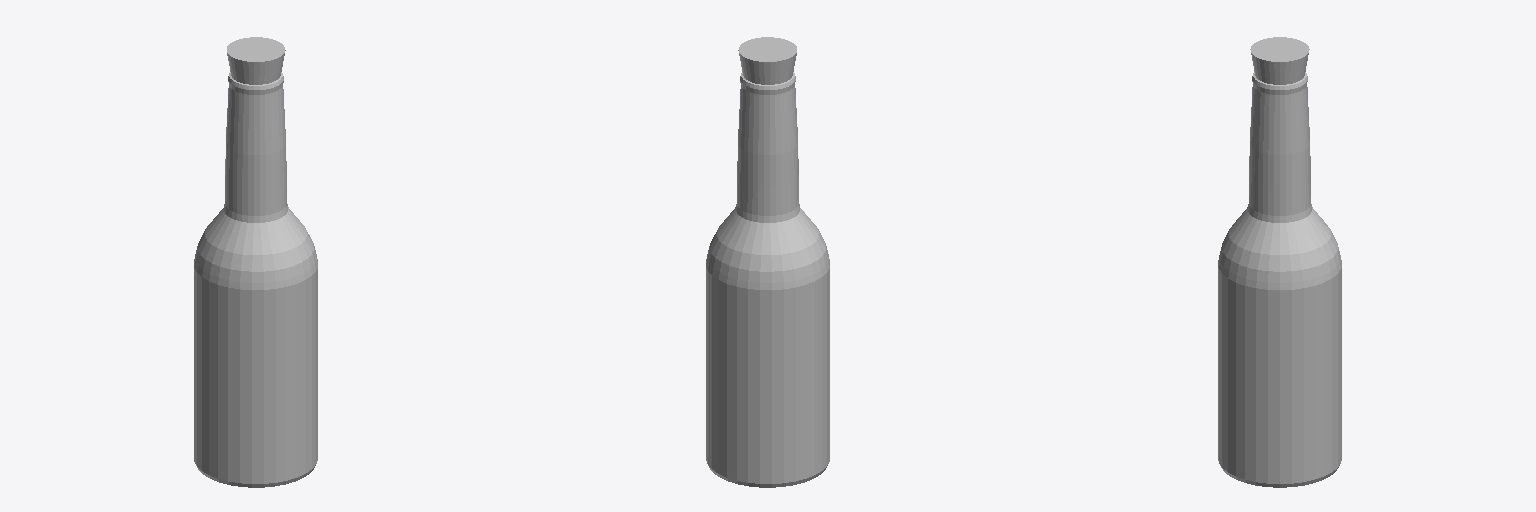
File: bottle.obj
3 views of the same model, side by side, from view 1: azimuth 30°, elevation 25°; view 2: azimuth 150°, elevation 25°; view 3: azimuth 270°, elevation 25° (orthographic).
Parts seen in each view (by area): view 1: Bottle, Cork; view 2: Bottle, Cork; view 3: Bottle, Cork.
Boxes of the visible parts, x1=… form: Bottle: x1=194, y1=72, x2=317, y2=487; Cork: x1=227, y1=37, x2=285, y2=84; Bottle: x1=706, y1=72, x2=829, y2=487; Cork: x1=738, y1=37, x2=796, y2=84; Bottle: x1=1218, y1=72, x2=1341, y2=487; Cork: x1=1250, y1=37, x2=1309, y2=84.
Size of the model in its own units: 2 by 7.31 by 2.